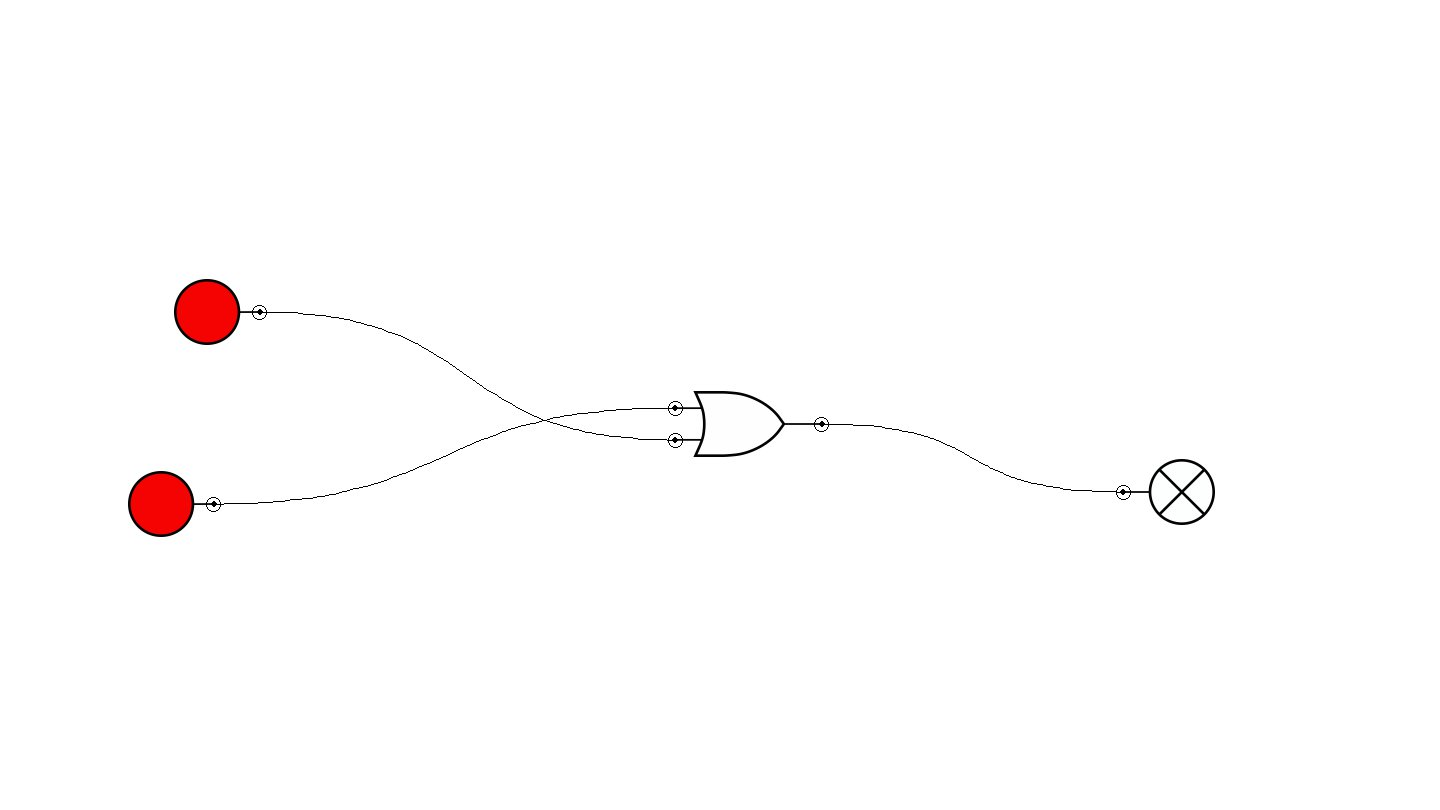bulb: (1116, 459, 1215, 525)
or: (668, 391, 829, 457)
switch_False: (128, 471, 221, 537), (174, 279, 267, 345)
